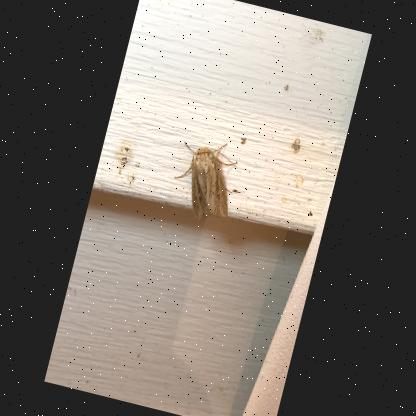Fall Armyworm Moth: (164, 132, 245, 230)
